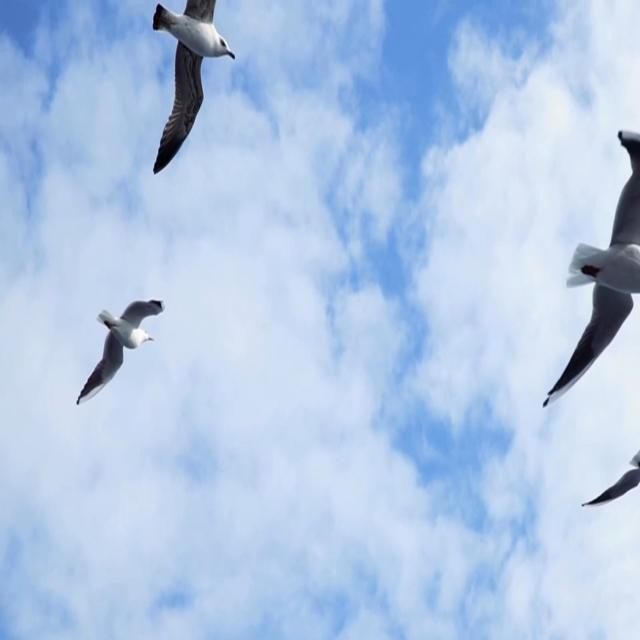bird: (537, 110, 640, 433), (52, 248, 196, 435), (138, 0, 250, 189), (555, 442, 640, 561)
